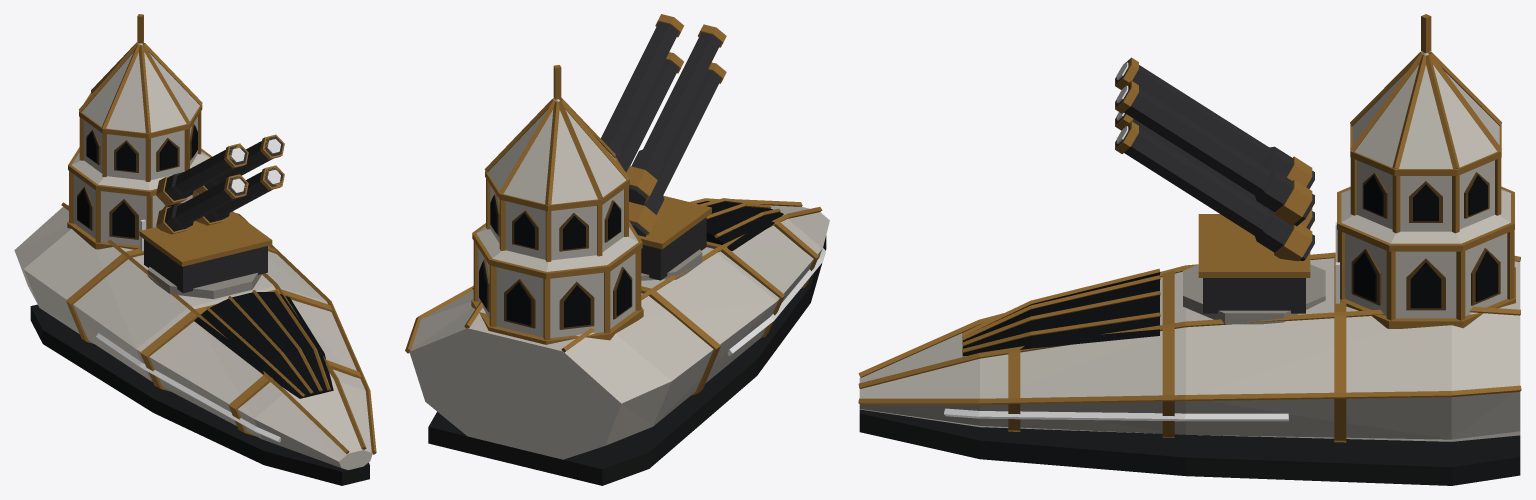
Rendered from artillery_t3.glb.
3 renders of one model, left to right at view 1: azimuth 30°, elevation 25°; view 2: azimuth 150°, elevation 25°; view 3: azimuth 270°, elevation 25°, orthographic. The views are drawn at different scales.
Parts seen in each view (by area): view 1: body, top; view 2: body, top; view 3: body, top.
Part boxes in pixels (bbox=[...]): body: bbox=[14, 14, 376, 485]; top: bbox=[139, 134, 284, 293]; body: bbox=[405, 65, 829, 485]; top: bbox=[601, 14, 726, 280]; body: bbox=[858, 14, 1521, 485]; top: bbox=[1115, 57, 1314, 313].
Size of the model in its own units: 4.17 by 5.79 by 8.35.
